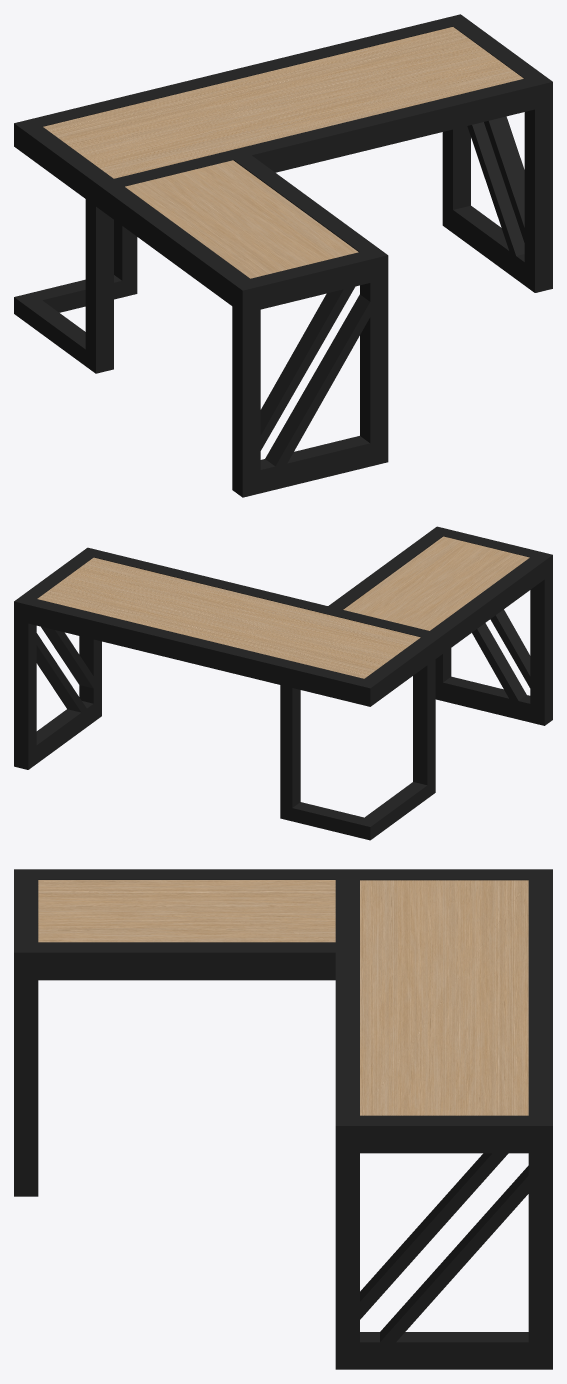
The model's file is writeTable.glb.
3 views of the same model, one above another, from view 1: azimuth 30°, elevation 25°; view 2: azimuth 150°, elevation 25°; view 3: azimuth 270°, elevation 25° (orthographic). The views are drawn at different scales.
Visible parts, largest first — view 1: Table 4_7; view 2: Table 4_7; view 3: Table 4_7.
Boxes of the visible parts, x1,y1,x2,y2 form: Table 4_7: [14, 14, 552, 497]; Table 4_7: [14, 526, 552, 840]; Table 4_7: [14, 869, 552, 1369].
Bounding box in the file's own units: 2.58 × 1.14 × 2.28.
2 materials, 1 textured.
